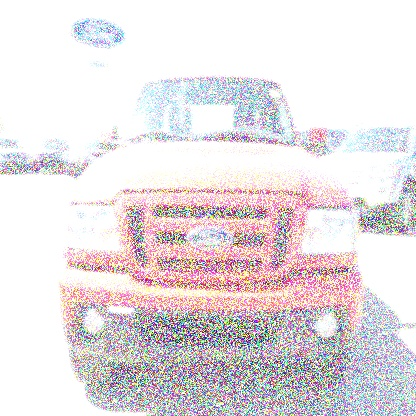Vehicle: (57, 69, 368, 397)
